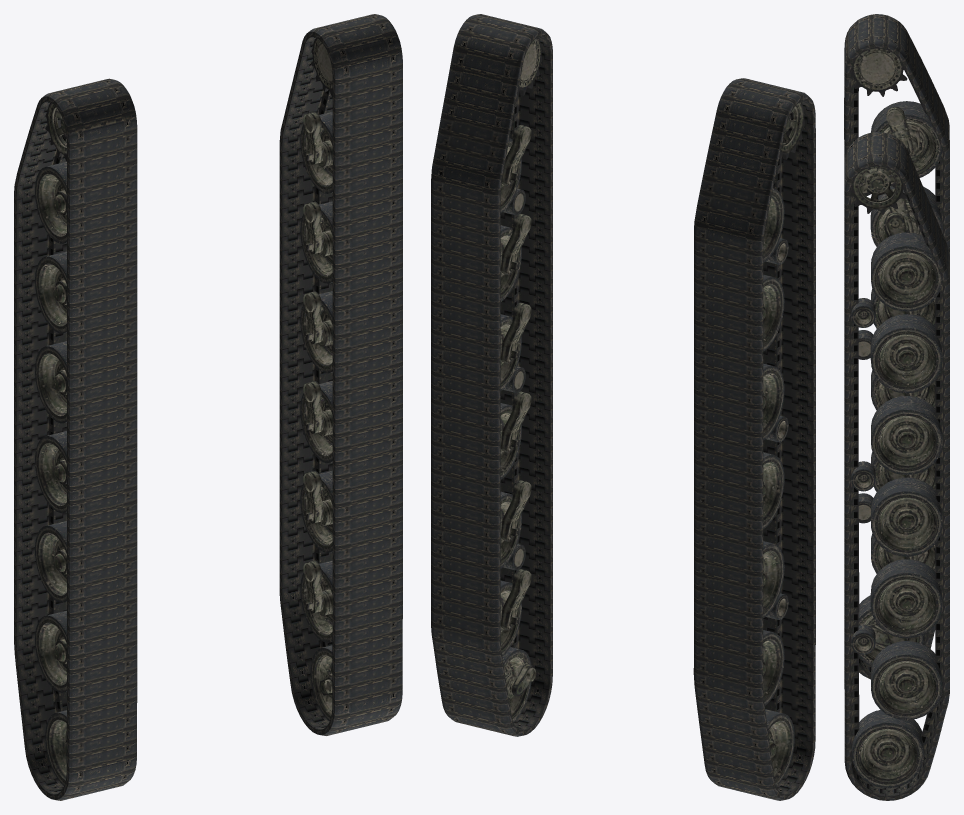
File: Chassis.glb
3 renders of one model, left to right at view 1: azimuth 30°, elevation 25°; view 2: azimuth 150°, elevation 25°; view 3: azimuth 270°, elevation 25°, orthographic. The views are drawn at different scales.
Visible parts, largest first — view 1: set_0_group_0, set_1_group_0, set_3_group_0, set_2_group_0; view 2: set_0_group_0, set_1_group_0, set_3_group_0, set_2_group_0; view 3: set_3_group_0, set_1_group_0, set_2_group_0, set_0_group_0.
Boxes of the visible parts, x1,y1,x2,y2 form: set_0_group_0: (14, 78, 137, 800); set_1_group_0: (279, 14, 402, 735); set_3_group_0: (300, 38, 332, 720); set_2_group_0: (35, 102, 66, 785); set_0_group_0: (693, 78, 815, 800); set_1_group_0: (431, 14, 552, 736); set_3_group_0: (500, 37, 541, 721); set_2_group_0: (763, 101, 804, 785); set_3_group_0: (851, 166, 942, 787); set_1_group_0: (844, 132, 949, 800); set_2_group_0: (851, 48, 942, 666); set_0_group_0: (844, 14, 949, 679).
Size of the model in its own units: 3.3 by 6.69 by 0.9969.
Materials: 4 (4 with a texture image).
